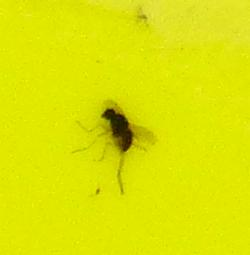Brachycera: (100, 100, 150, 155)
